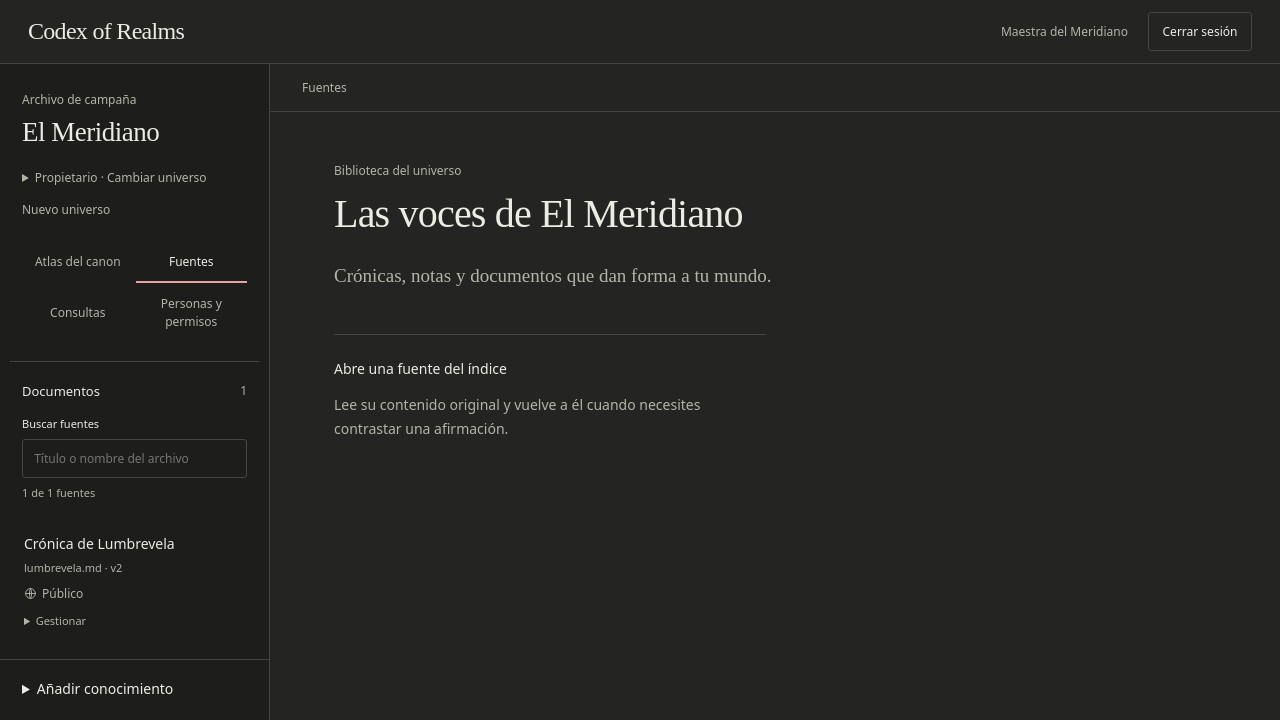
it: App › presenta y permite cerrar errores de operación
Expected: the text "Crónica de Lumbrevela" is shown, [24,534,175,553]
Click the link "Consultas" at (78, 312), box [50,304,105,321]
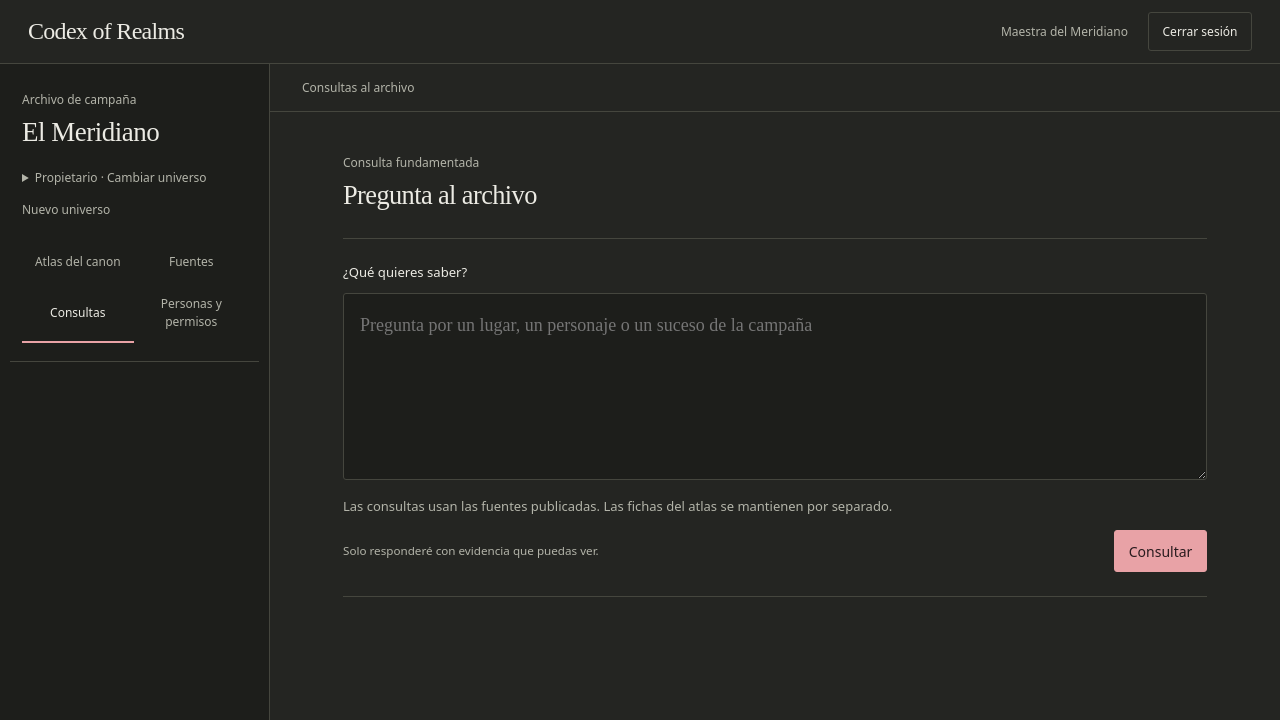
Replace the text in the text box labelled "¿Qué quieres saber?" with "pregunta" at (775, 386), box [343,293,1207,480]
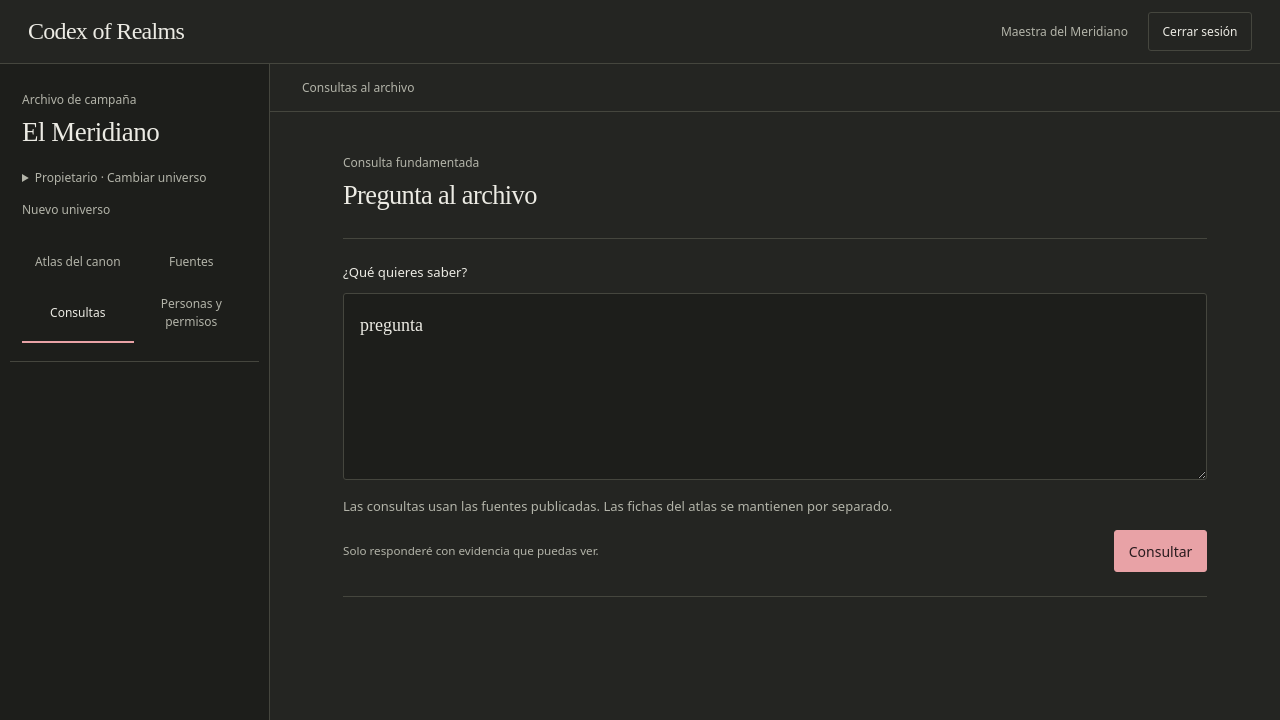
Click the button "Consultar" at (1161, 551), box [1114,530,1207,572]
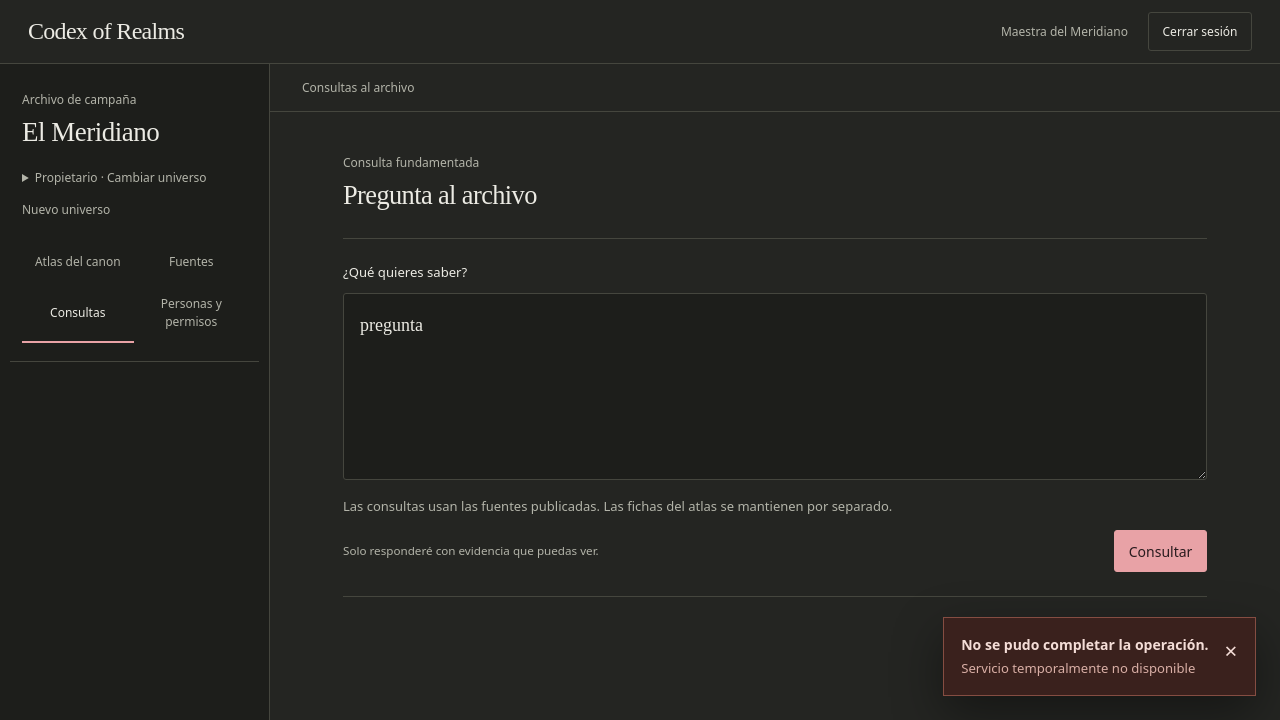
Expected: the text "Servicio temporalmente no disponible" is shown, [961,659,1209,679]
Click the button named "Cerrar aviso" at (1231, 650), box [1225,634,1237,667]
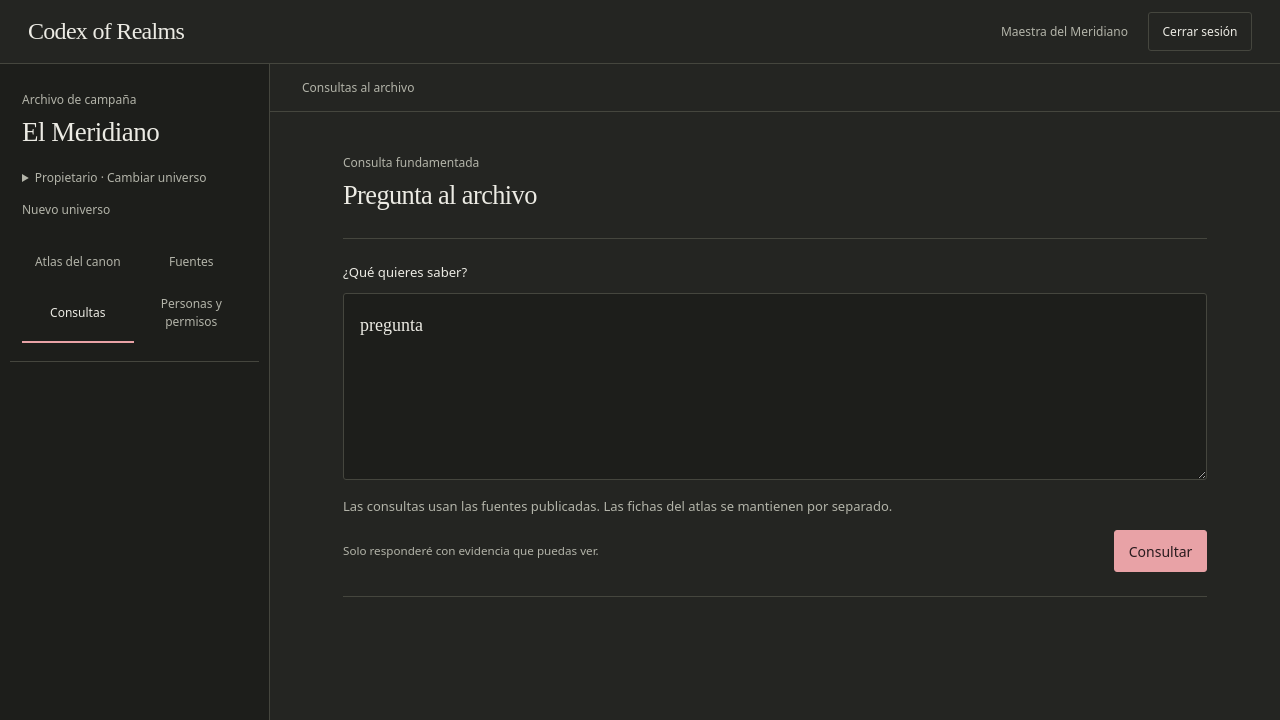
Expected: the text "Servicio temporalmente no disponible" is gone
